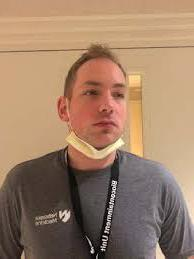mask_weared_incorrect: (67, 75, 124, 159)
